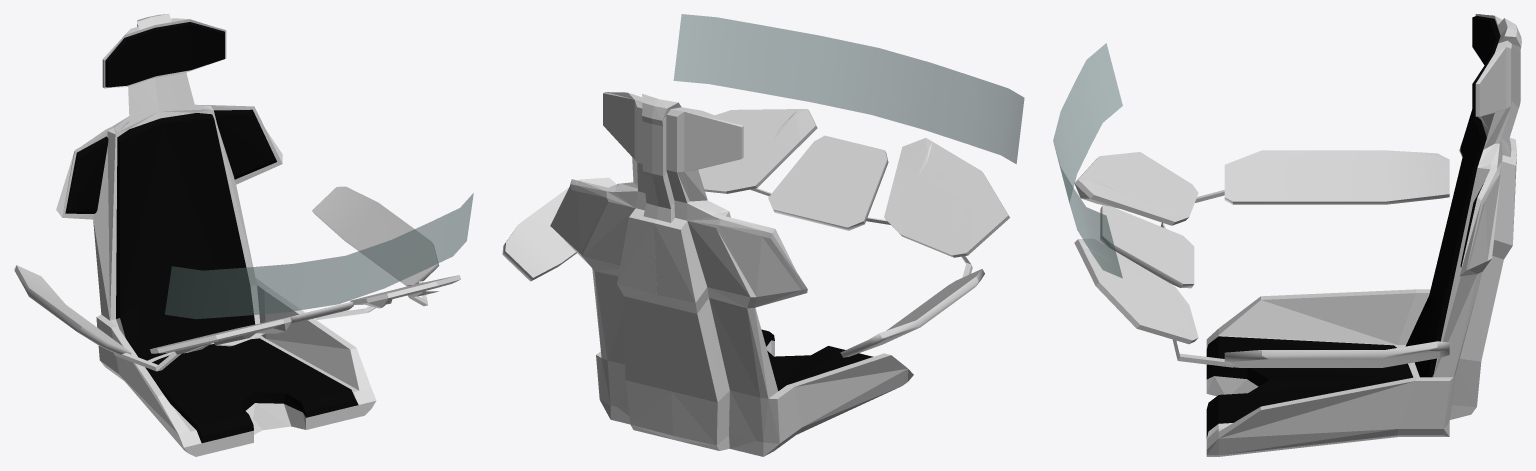
Rendered from VRCockpit.fbx.
3 renders of one model, left to right at view 1: azimuth 30°, elevation 25°; view 2: azimuth 150°, elevation 25°; view 3: azimuth 270°, elevation 25°, orthographic. The views are drawn at different scales.
Visible parts, largest first — view 1: pCube1, pCube2, pPipe1, pCube7, pCube4, pCube8, pCube3; view 2: pCube2, pPipe1, pCube1, pCube4, pCube3, pCube5, pCube6, pCube7, pCube8; view 3: pCube1, pCube2, pCube8, pPipe1, pCube3, pCube4, pCube7, pCube6, pCube5.
Part boxes in pixels (x1,y1,x2,y2): pCube1: [149, 14, 376, 430]; pCube2: [56, 17, 262, 456]; pPipe1: [165, 193, 473, 319]; pCube7: [312, 186, 439, 286]; pCube4: [114, 317, 291, 371]; pCube8: [14, 265, 131, 354]; pCube3: [315, 275, 460, 320]; pCube2: [652, 99, 913, 456]; pPipe1: [673, 14, 1024, 163]; pCube1: [550, 92, 774, 440]; pCube4: [866, 138, 1009, 277]; pCube3: [698, 109, 817, 196]; pCube5: [810, 143, 888, 230]; pCube6: [768, 135, 854, 221]; pCube7: [502, 177, 616, 281]; pCube8: [840, 269, 984, 357]; pCube1: [1206, 27, 1521, 456]; pCube2: [1206, 14, 1521, 396]; pCube8: [1224, 150, 1449, 204]; pPipe1: [1053, 43, 1122, 278]; pCube3: [1074, 239, 1234, 367]; pCube4: [1074, 152, 1224, 228]; pCube7: [1224, 341, 1449, 367]; pCube6: [1100, 221, 1194, 288]; pCube5: [1100, 205, 1194, 264].
Size of the model in its own units: 16.06 by 14.38 by 15.7.
